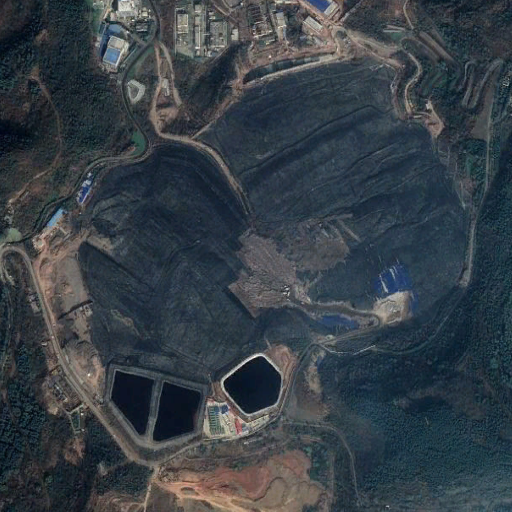lf: (74, 48, 464, 380)
